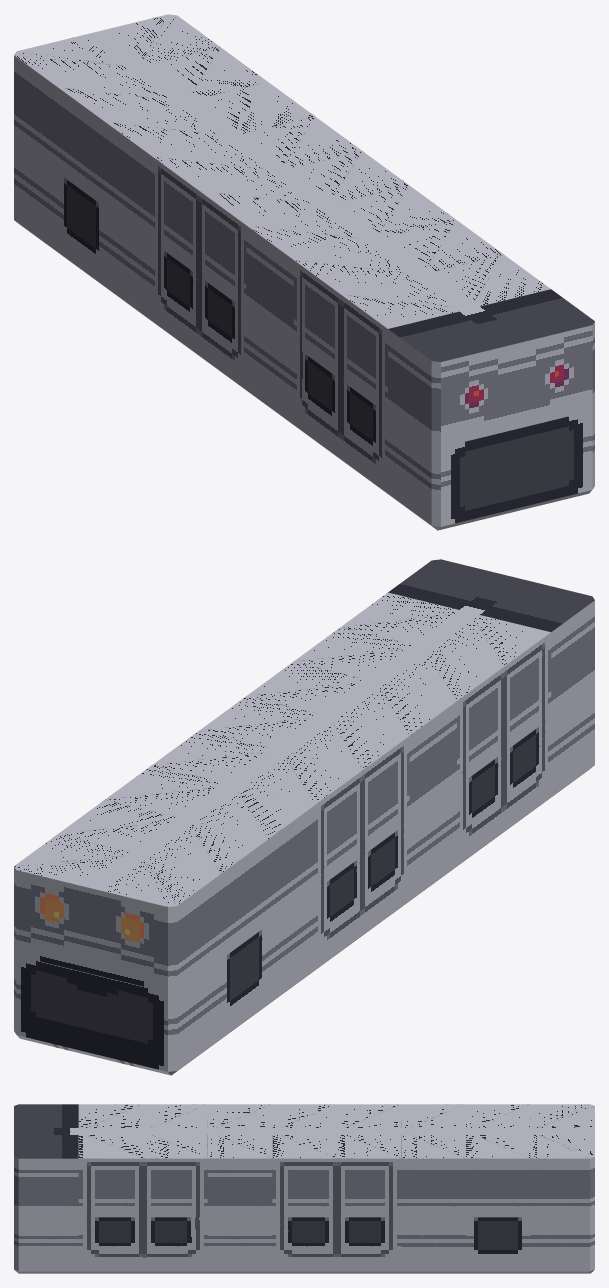
File: Trem.fbx
The picture shows the model from 3 angles, top to bottom: view 1: azimuth 30°, elevation 25°; view 2: azimuth 150°, elevation 25°; view 3: azimuth 270°, elevation 25°; orthographic projection. The views are drawn at different scales.
Parts seen in each view (by area): view 1: Trem; view 2: Trem; view 3: Trem.
Boxes of the visible parts, left/top/right/bottom form: Trem: left=14, top=14, right=594, bottom=530; Trem: left=14, top=559, right=594, bottom=1075; Trem: left=14, top=1104, right=594, bottom=1273.
Size of the model in its own units: 200 by 200 by 900.
